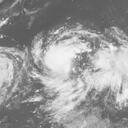cyclone: (31, 23, 92, 87)
